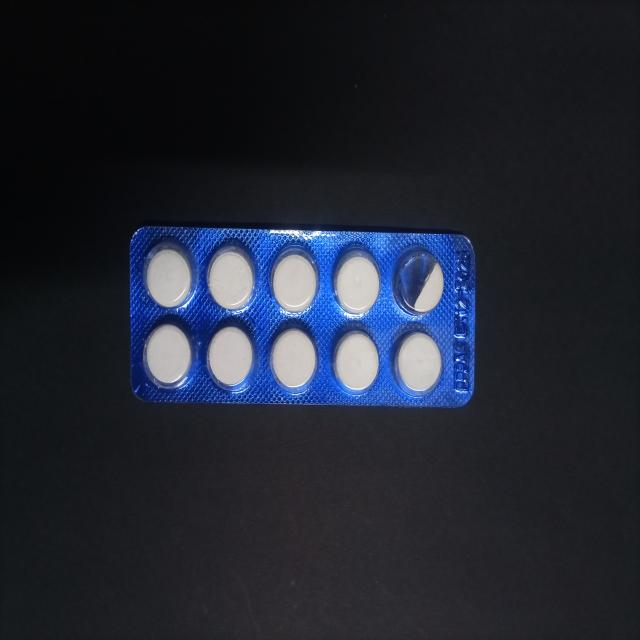defect: (390, 245, 446, 319)
